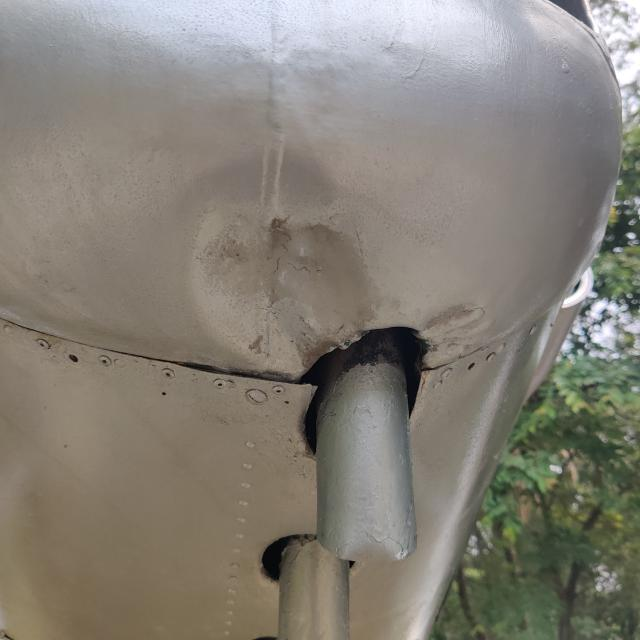dent: (162, 168, 403, 392), (408, 284, 499, 354)
